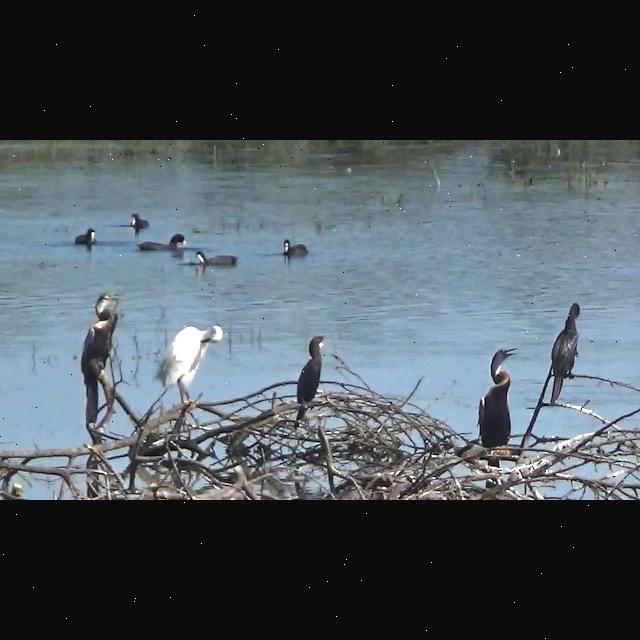cormorant: (76, 290, 120, 426), (544, 298, 584, 402), (293, 332, 329, 431)
